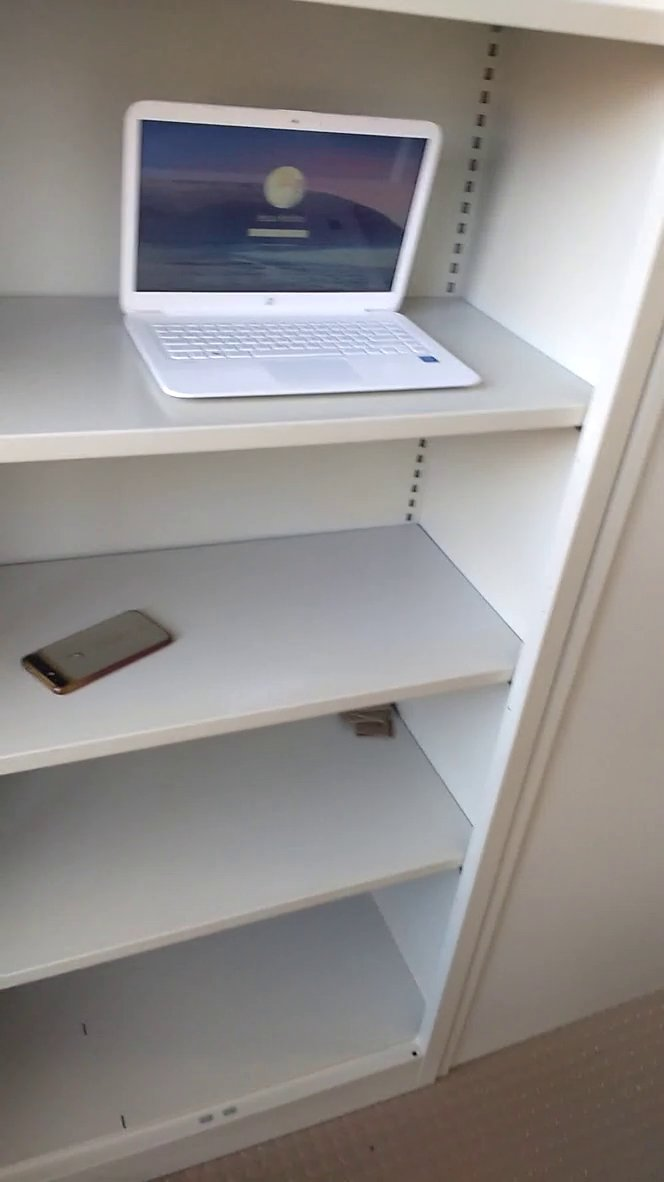laptop: (96, 90, 496, 429)
phone: (15, 601, 188, 708)
